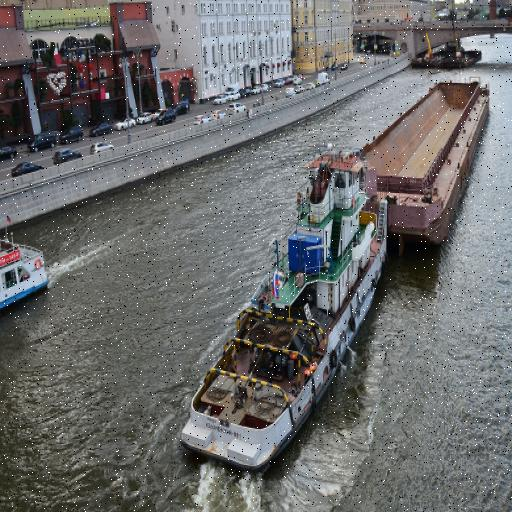tugboat: (176, 149, 395, 479)
